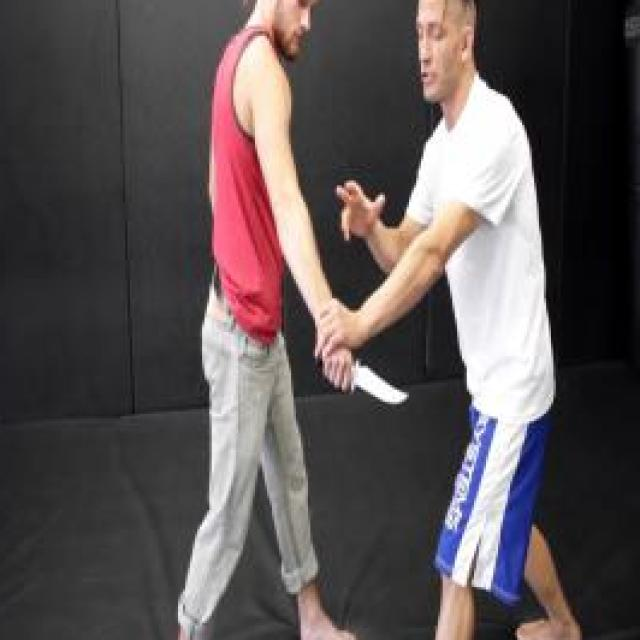knife: (310, 347, 412, 421)
